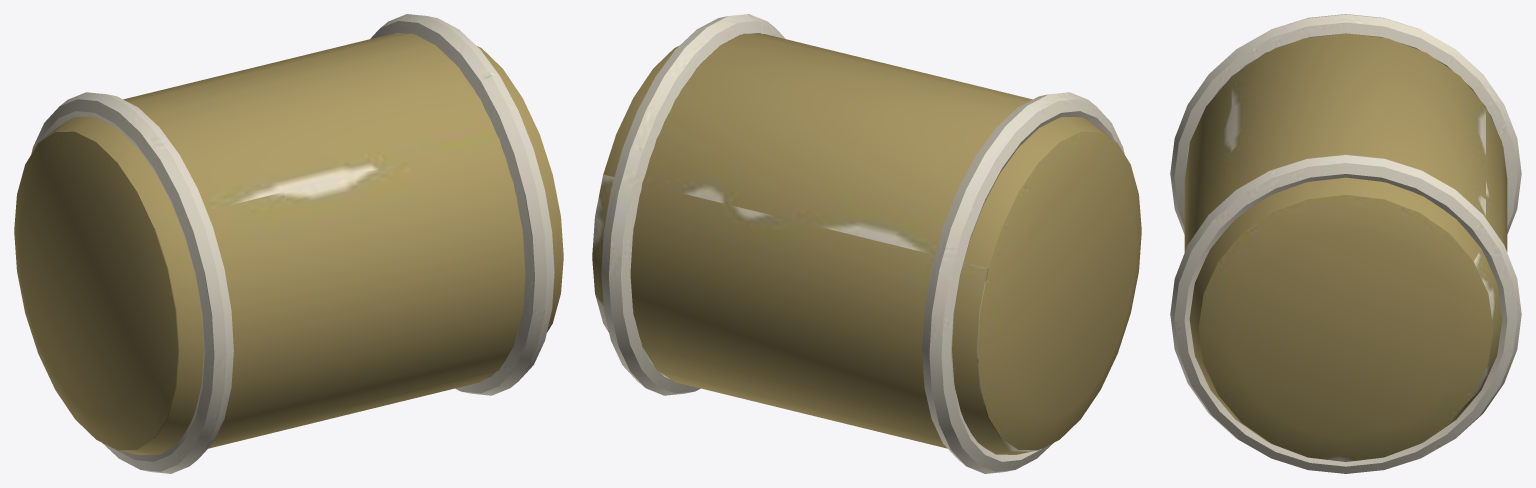
File: att_oilskin.glb
The picture shows the model from 3 angles, left to right: view 1: azimuth 30°, elevation 25°; view 2: azimuth 150°, elevation 25°; view 3: azimuth 270°, elevation 25°; orthographic projection. The views are drawn at different scales.
Parts seen in each view (by area): view 1: cover, tie-0.035, tie0.035; view 2: cover, tie-0.035, tie0.035; view 3: cover, tie0.035, tie-0.035.
Boxes of the visible parts, left/top/right/bottom form: cover: left=14, top=33, right=563, bottom=454; tie-0.035: left=31, top=92, right=233, bottom=473; tie0.035: left=370, top=14, right=554, bottom=395; cover: left=592, top=33, right=1141, bottom=454; tie-0.035: left=922, top=92, right=1124, bottom=473; tie0.035: left=601, top=14, right=785, bottom=395; cover: left=1184, top=33, right=1507, bottom=461; tie0.035: left=1170, top=154, right=1521, bottom=473; tie-0.035: left=1170, top=14, right=1521, bottom=234.
Bounding box in the file's own units: 0.09 × 0.074 × 0.074.
1 material, 1 textured.
